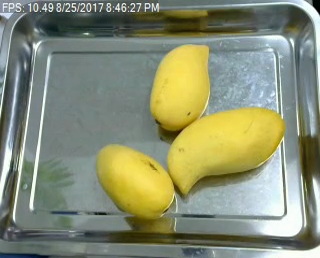Mango: (167, 105, 290, 196), (93, 142, 179, 221), (148, 40, 213, 131)
